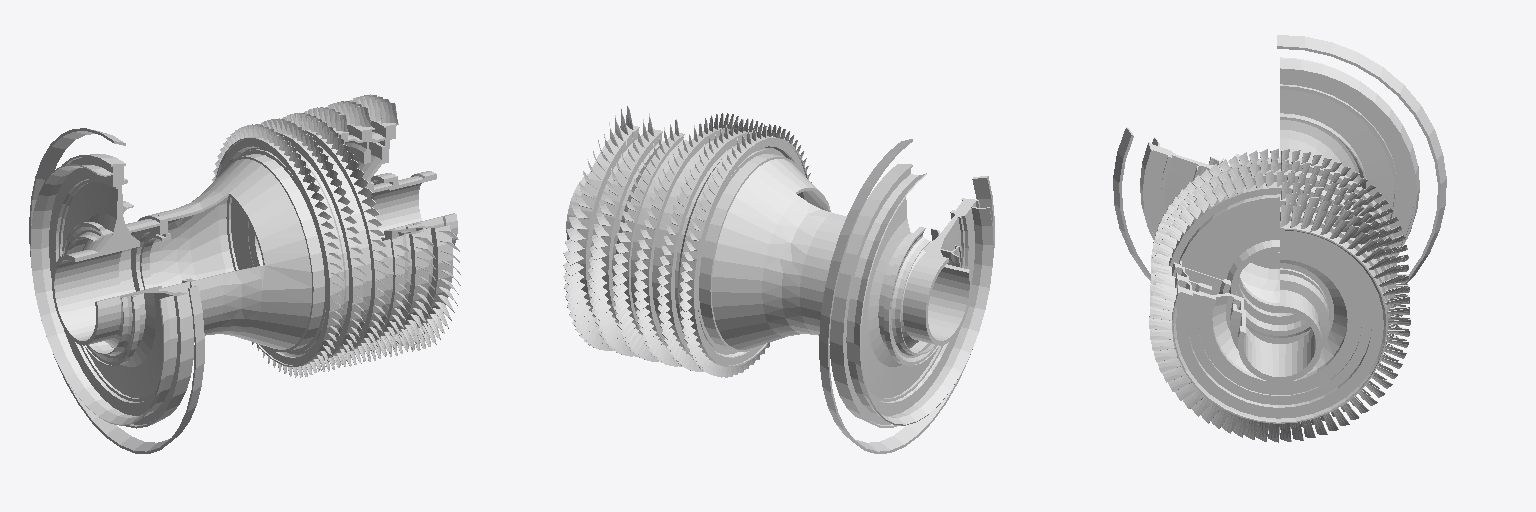
File: spool3.obj
3 renders of one model, left to right at view 1: azimuth 30°, elevation 25°; view 2: azimuth 150°, elevation 25°; view 3: azimuth 270°, elevation 25°, orthographic.
Visible parts, largest first — view 1: Spool3-385, Spool3-384, Spool3-383, Spool3-386; view 2: Spool3-385, Spool3-384, Spool3-383, Spool3-386; view 3: Spool3-383, Spool3-385, Spool3-386, Spool3-384.
Boxes of the visible parts, <box> form: Spool3-385: <box>30,154,196,428</box>; Spool3-384: <box>140,149,326,353</box>; Spool3-383: <box>215,118,457,366</box>; Spool3-386: <box>29,128,204,453</box>; Spool3-385: <box>830,164,993,427</box>; Spool3-384: <box>697,149,846,352</box>; Spool3-383: <box>566,125,808,366</box>; Spool3-386: <box>819,139,994,453</box>; Spool3-383: <box>1169,157,1396,423</box>; Spool3-385: <box>1140,57,1419,255</box>; Spool3-386: <box>1113,35,1446,283</box>; Spool3-384: <box>1240,153,1310,302</box>.
Bounding box in the file's own units: 901 × 720 × 720.